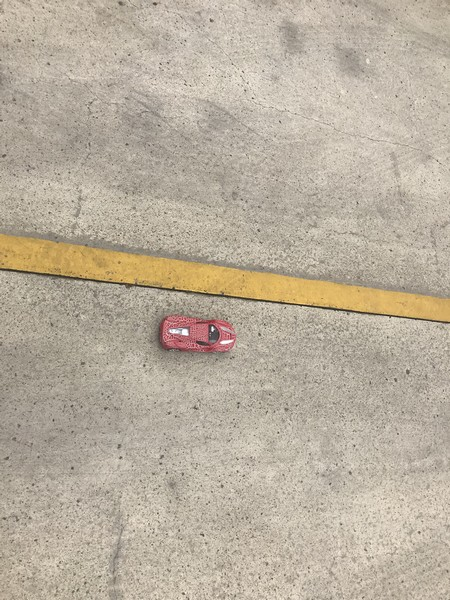RC: (158, 313, 237, 355)
